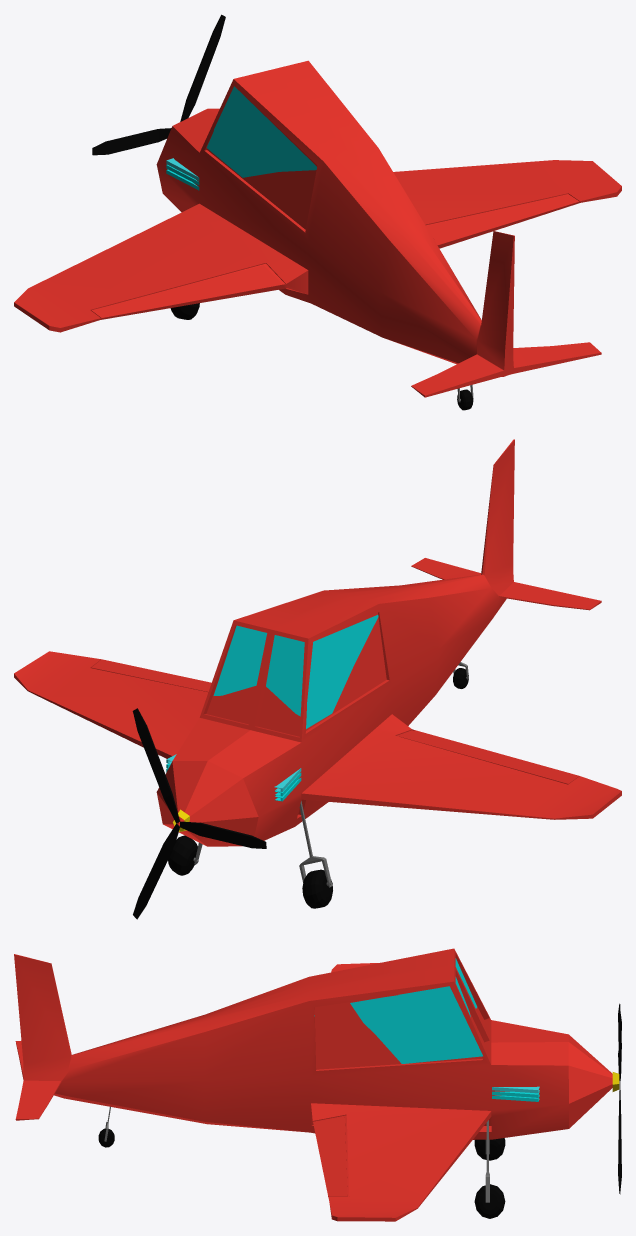
File: airplane model.fbx
3 views of the same model, one above another, from view 1: azimuth 30°, elevation 25°; view 2: azimuth 150°, elevation 25°; view 3: azimuth 270°, elevation 25° (orthographic). The views are drawn at different scales.
Parts seen in each view (by area): view 1: Body, Window 2, Propellor 2, Propellor 1; view 2: Body, Window 2, WIndow 4, Window 3, Propellor 2, Propellor 1, Propellor 3, Wheel 3, Wheel 2; view 3: Body, Window 1, Wheel 2, Wheel 3.
Boxes of the visible parts, bbox=[...] form: Body: bbox=[14, 60, 621, 397]; Window 2: bbox=[206, 86, 316, 177]; Propellor 2: bbox=[180, 14, 225, 121]; Propellor 1: bbox=[92, 128, 171, 155]; Body: bbox=[14, 439, 621, 846]; Window 2: bbox=[306, 615, 378, 728]; WIndow 4: bbox=[213, 625, 267, 695]; Window 3: bbox=[266, 635, 304, 716]; Propellor 2: bbox=[132, 708, 179, 823]; Propellor 1: bbox=[180, 821, 266, 848]; Propellor 3: bbox=[133, 823, 179, 919]; Wheel 3: bbox=[302, 869, 332, 908]; Wheel 2: bbox=[168, 835, 197, 875]; Body: bbox=[14, 948, 612, 1221]; Window 1: bbox=[314, 986, 482, 1063]; Wheel 2: bbox=[474, 1184, 505, 1218]; Wheel 3: bbox=[474, 1138, 505, 1160].
Size of the model in its own units: 1574 by 675 by 1583.
